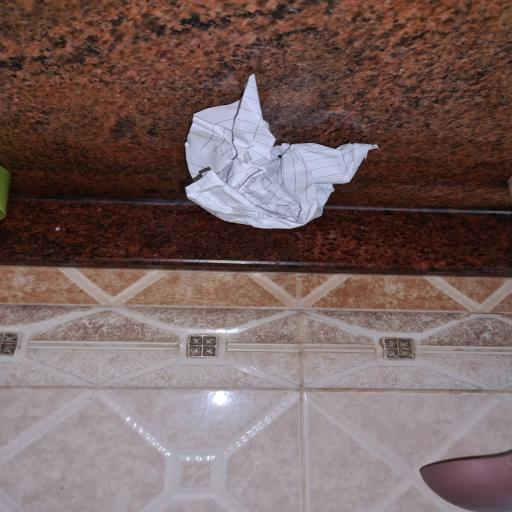Kertas: (185, 75, 378, 228)
